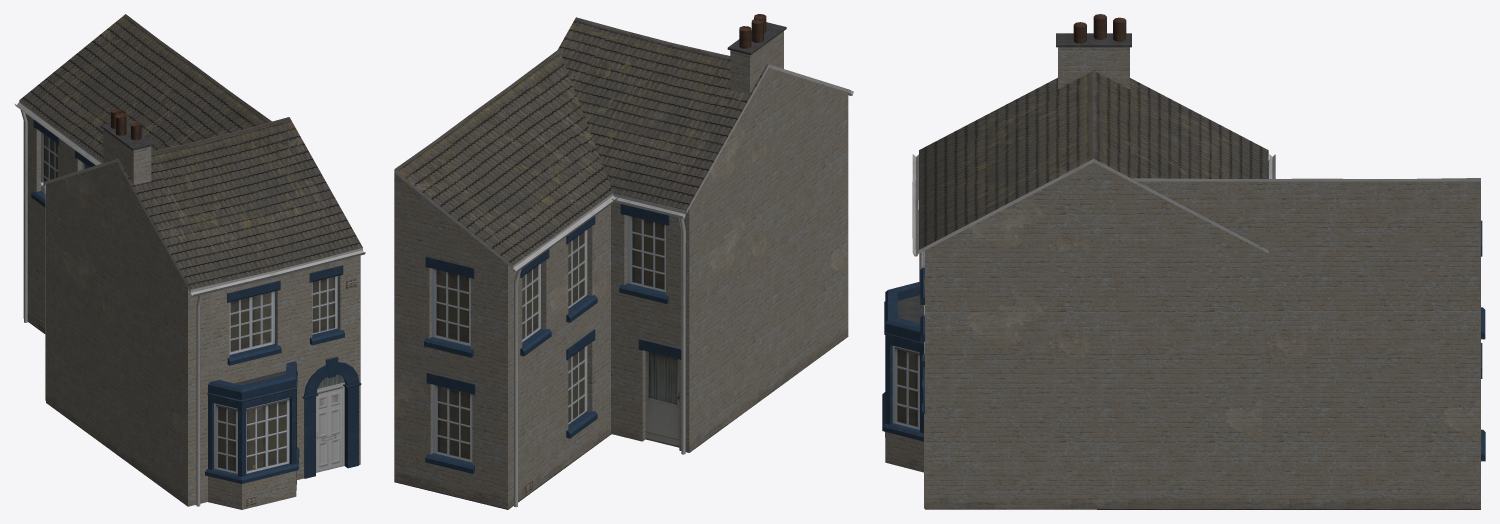
The model's file is ukterracedvictorian12m.FBX.
The picture shows the model from 3 angles, left to right: view 1: azimuth 30°, elevation 25°; view 2: azimuth 150°, elevation 25°; view 3: azimuth 270°, elevation 25°; orthographic projection. The views are drawn at different scales.
Visible parts, largest first — view 1: Object003; view 2: Object003; view 3: Object003.
Part boxes in pixels (bbox=[...]): Object003: bbox=[14, 14, 365, 509]; Object003: bbox=[394, 14, 853, 509]; Object003: bbox=[882, 14, 1485, 509].
Size of the model in its own units: 560 by 1041 by 1431.
